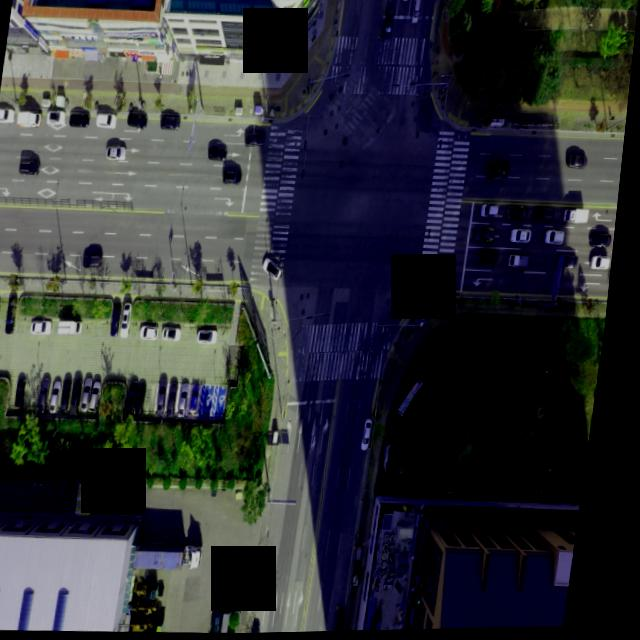car: (381, 8, 394, 46), (264, 259, 286, 281), (45, 375, 57, 413), (173, 379, 185, 415), (77, 377, 89, 413), (115, 304, 127, 339), (488, 163, 510, 182), (159, 115, 182, 133), (124, 303, 136, 337), (67, 377, 79, 411), (95, 113, 118, 130), (370, 421, 382, 453), (184, 382, 196, 414), (142, 383, 154, 415), (509, 206, 531, 223), (202, 329, 224, 346), (164, 378, 175, 412), (57, 380, 69, 411), (128, 114, 149, 131), (20, 159, 42, 175), (22, 378, 33, 409), (513, 230, 533, 247), (568, 156, 588, 173), (168, 327, 188, 344), (546, 232, 567, 248), (97, 380, 108, 410), (68, 114, 90, 129), (49, 107, 68, 124), (245, 132, 265, 148), (594, 235, 615, 250), (537, 208, 558, 223), (36, 319, 57, 334), (481, 249, 500, 265), (595, 258, 614, 274), (225, 170, 244, 186), (145, 326, 164, 342), (90, 378, 100, 408), (85, 256, 105, 271), (0, 105, 17, 122), (482, 205, 500, 221), (347, 609, 359, 633), (480, 227, 499, 242), (109, 147, 128, 162), (208, 149, 227, 164), (561, 256, 581, 270), (198, 384, 208, 410), (410, 0, 420, 26), (252, 106, 263, 116), (400, 0, 409, 3)
large_truck: (140, 542, 214, 576)
small_truck: (566, 209, 592, 227), (18, 111, 44, 128), (511, 257, 534, 272)
